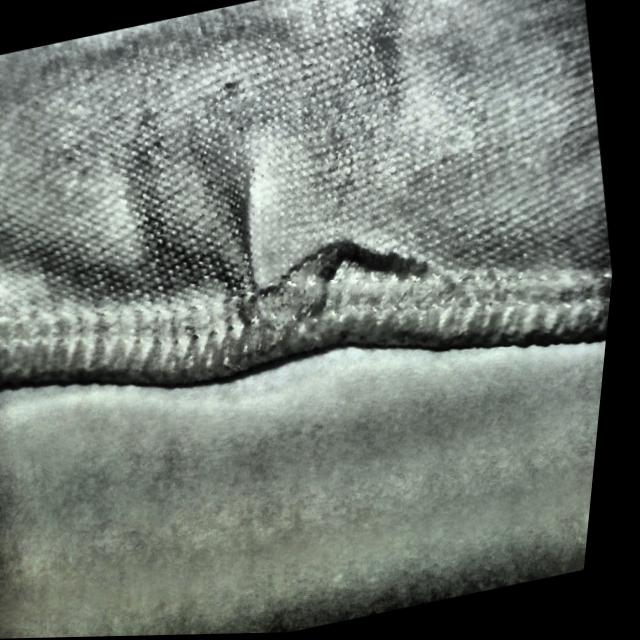seam: (181, 142, 448, 382)
